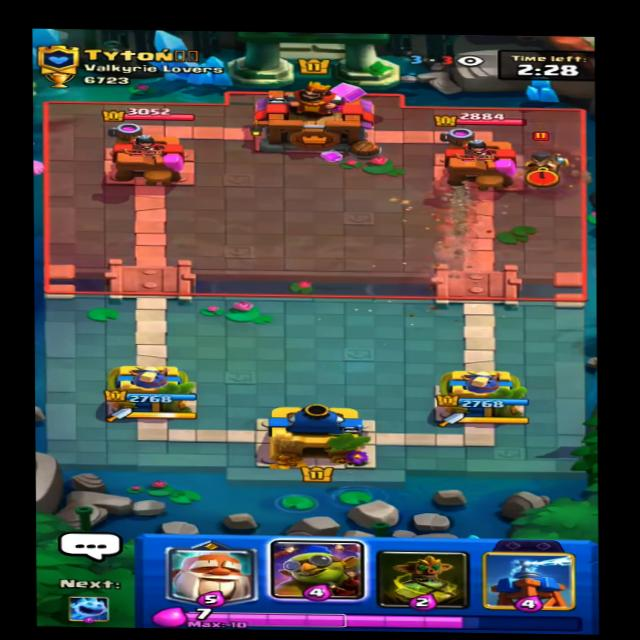night-witch: (514, 130, 573, 185)
